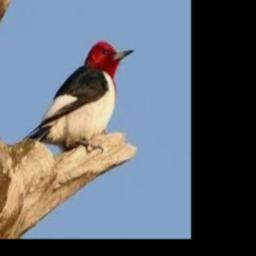Woodpecker: (27, 41, 134, 147)
